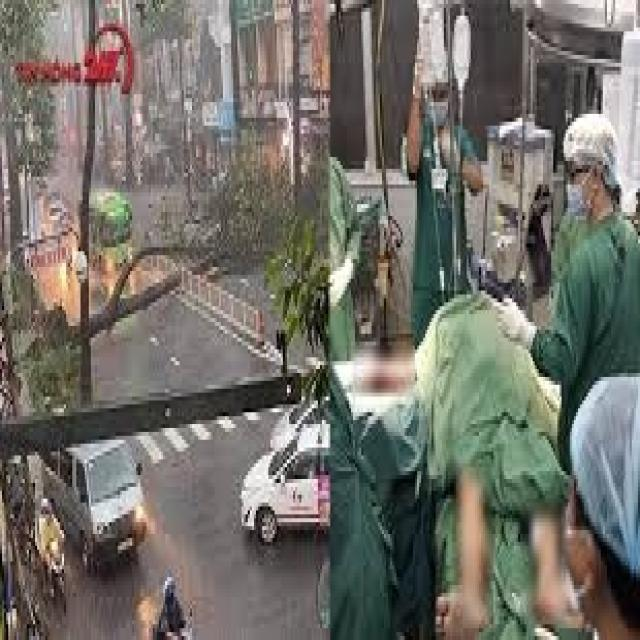fallen_object: (0, 179, 329, 372)
